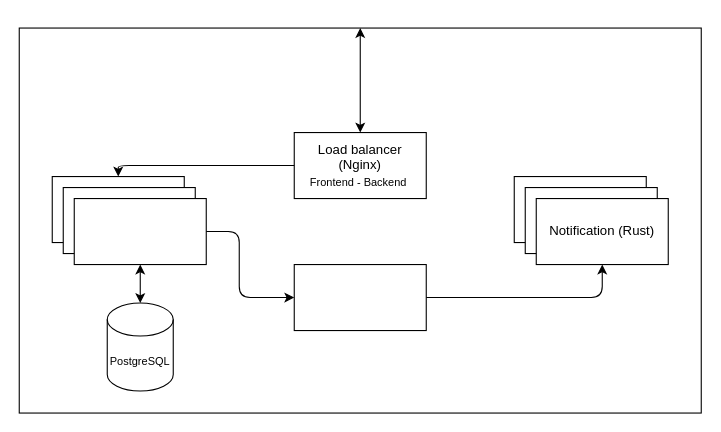
The diagram is 721 pixels wide and 432 high, and some of its shapes have lost their labels. Here are the shapes that lost their labels. From the top down, the centre of each, then its label:
the point at 139,231: Backend (Go)
the point at 359,297: Load balancer (Nginx) Backend - Notification
